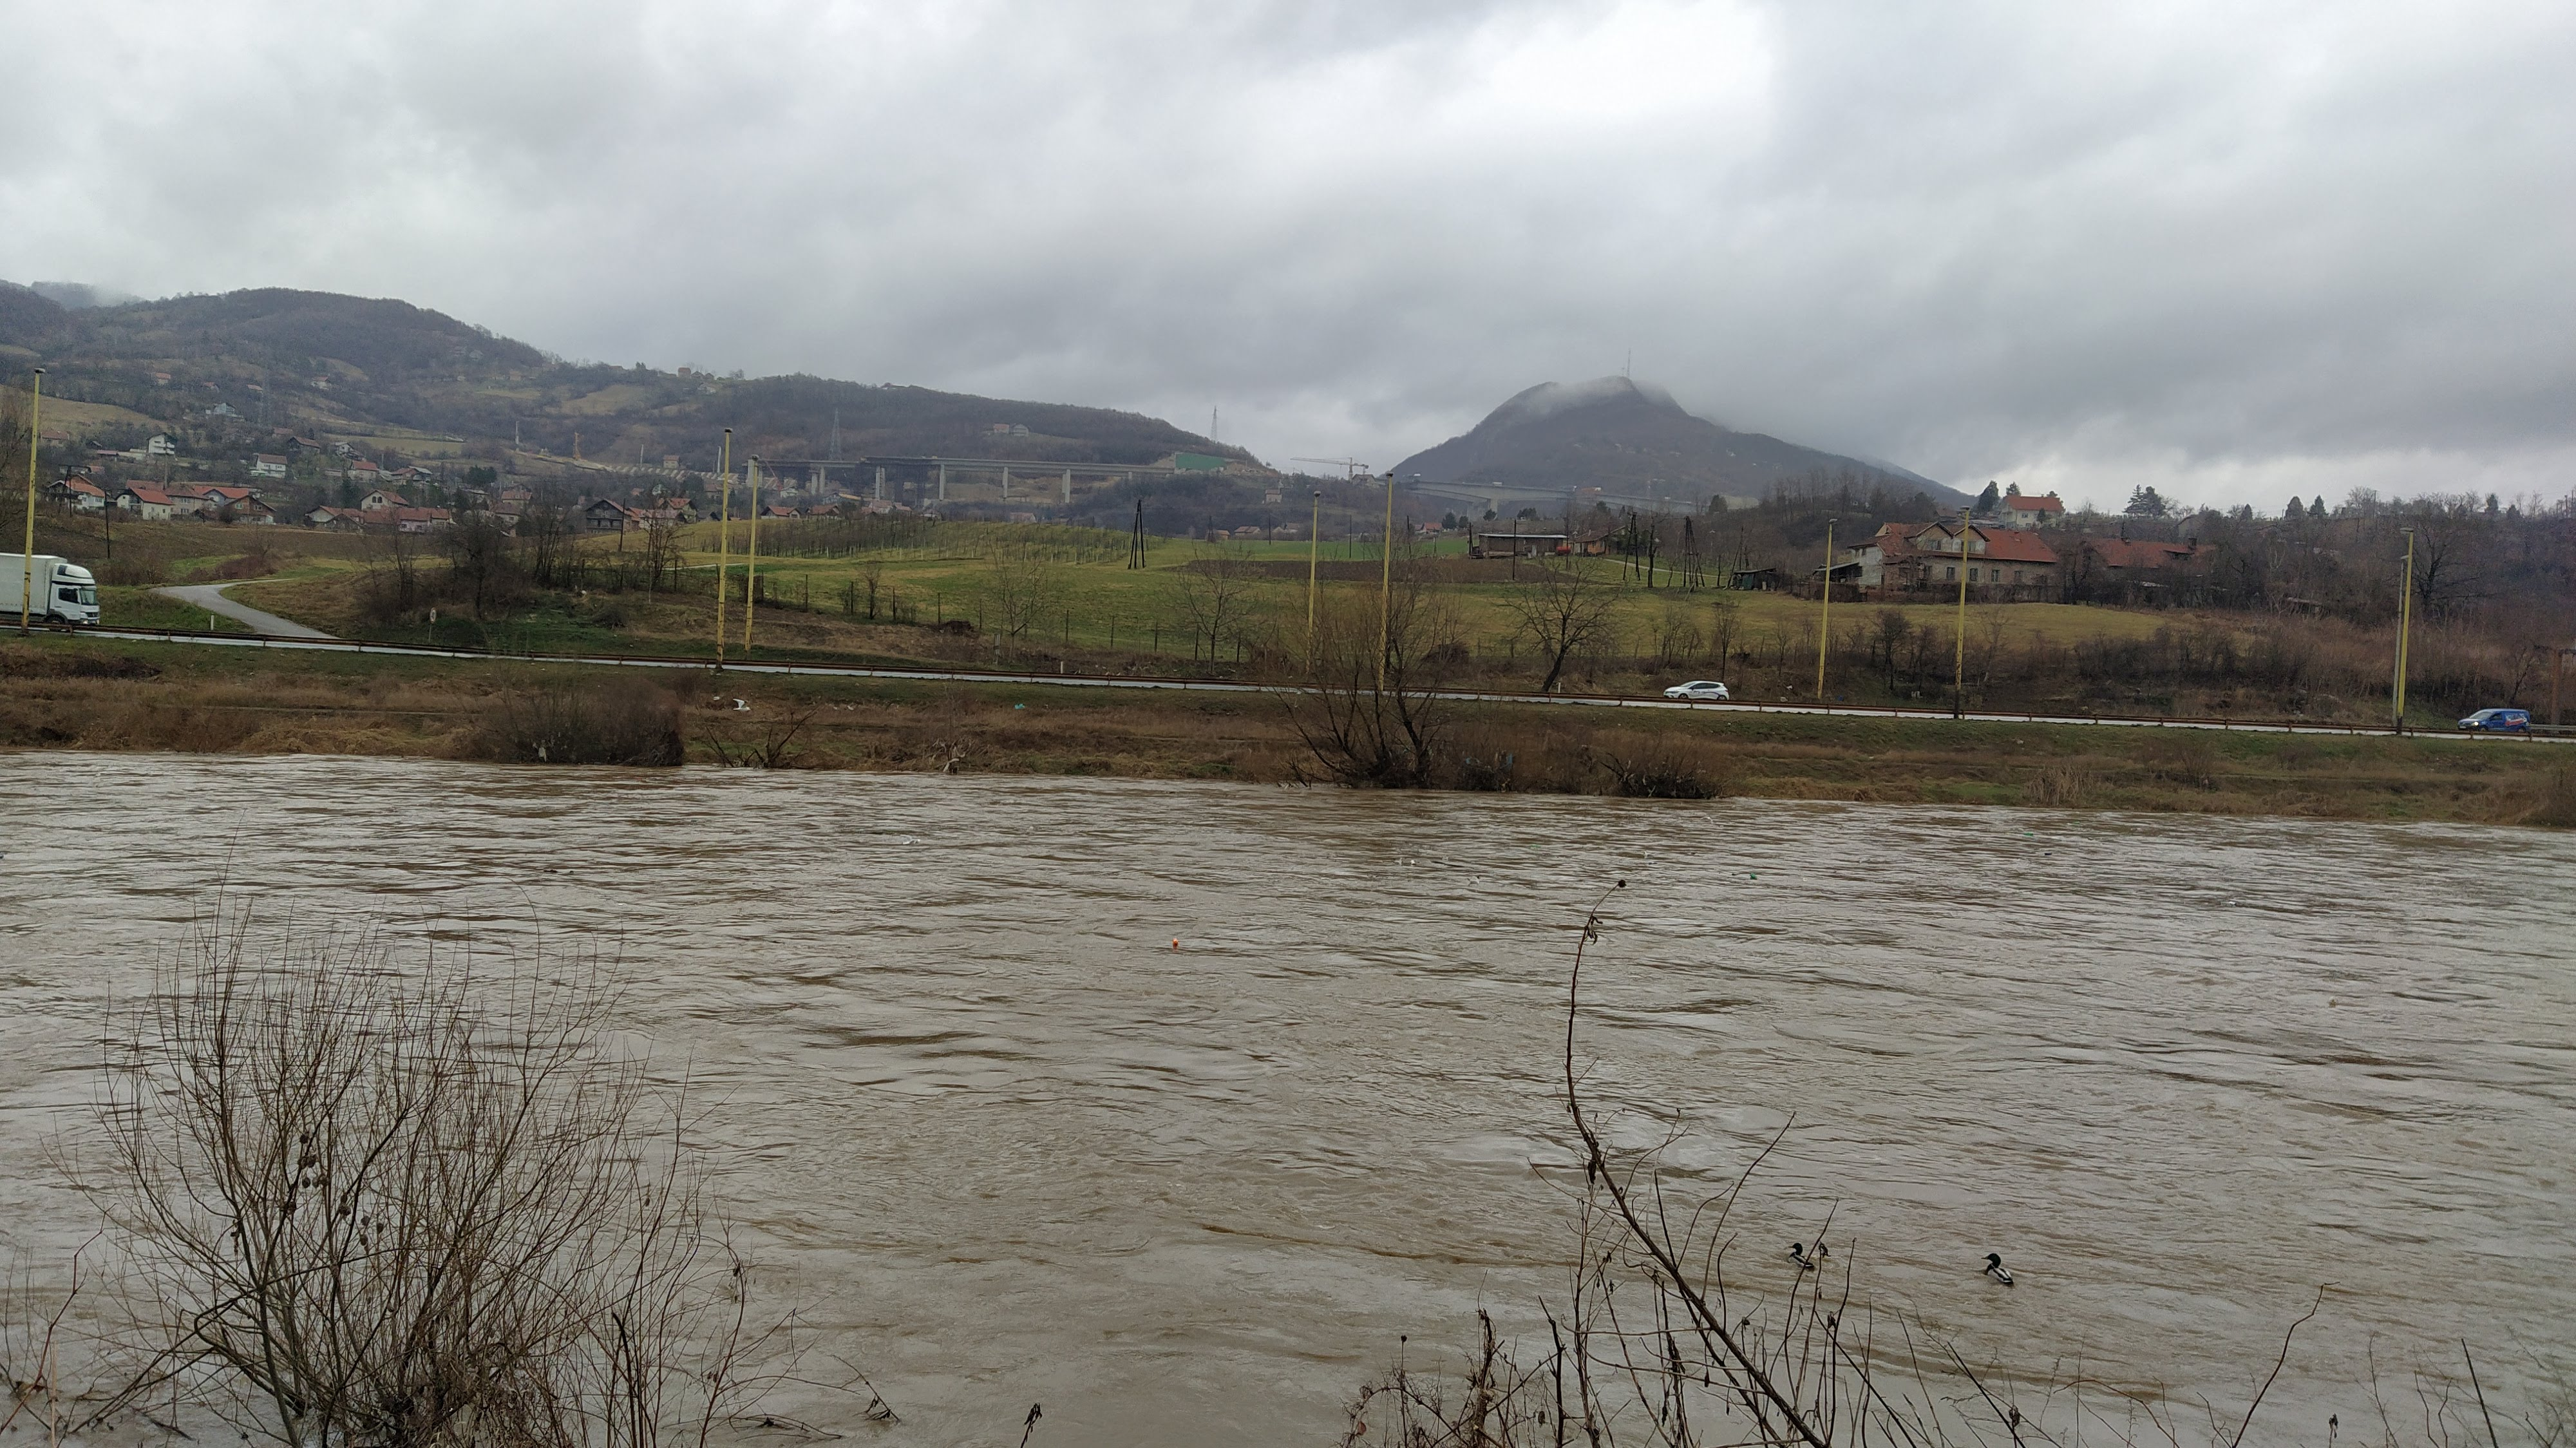Plastic Bottle: (2328, 997, 2339, 1004), (1750, 873, 1757, 880), (2026, 832, 2035, 836), (1173, 938, 1178, 944), (2045, 851, 2051, 855), (2229, 901, 2235, 905)
